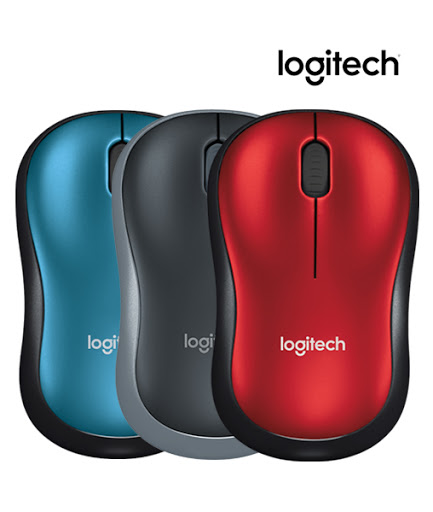logitech-mouse-m185: (208, 124, 423, 458)
